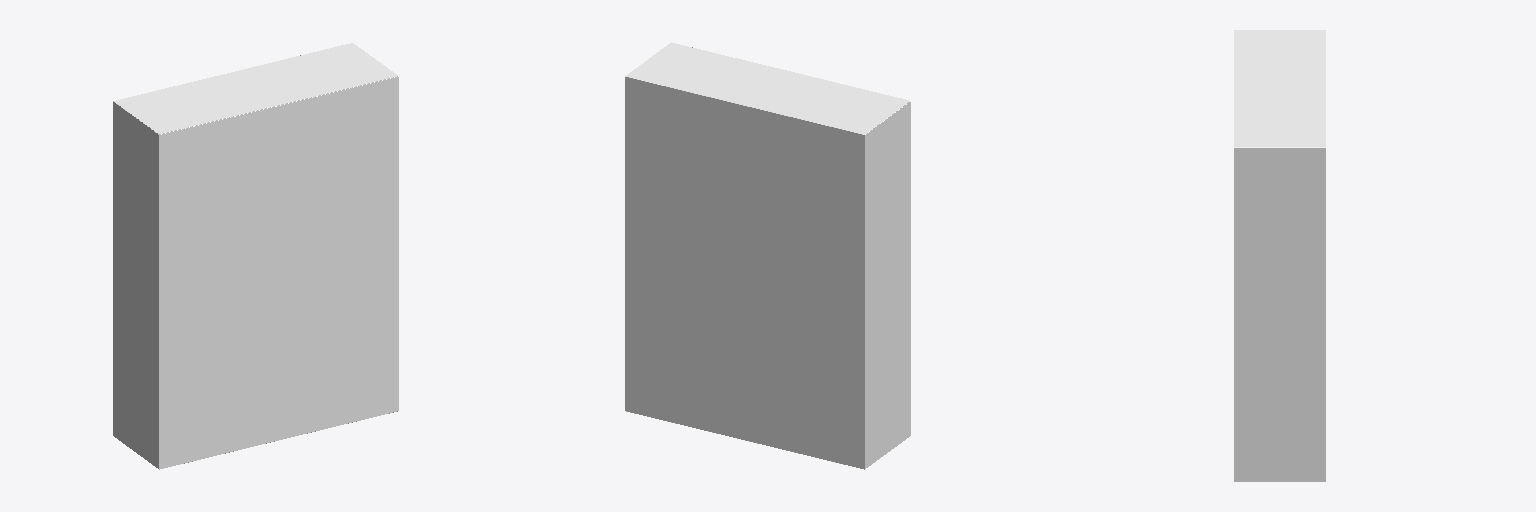
File: CornPops.obj
3 views of the same model, side by side, from view 1: azimuth 30°, elevation 25°; view 2: azimuth 150°, elevation 25°; view 3: azimuth 270°, elevation 25° (orthographic).
Visible parts, largest first — view 1: detergent_1; view 2: detergent_1; view 3: detergent_1.
Part boxes in pixels (x1,y1,x2,y2): detergent_1: (113,43,398,469); detergent_1: (625,42,910,469); detergent_1: (1234,30,1325,481).
Size of the model in its own units: 15 by 20.03 by 5.